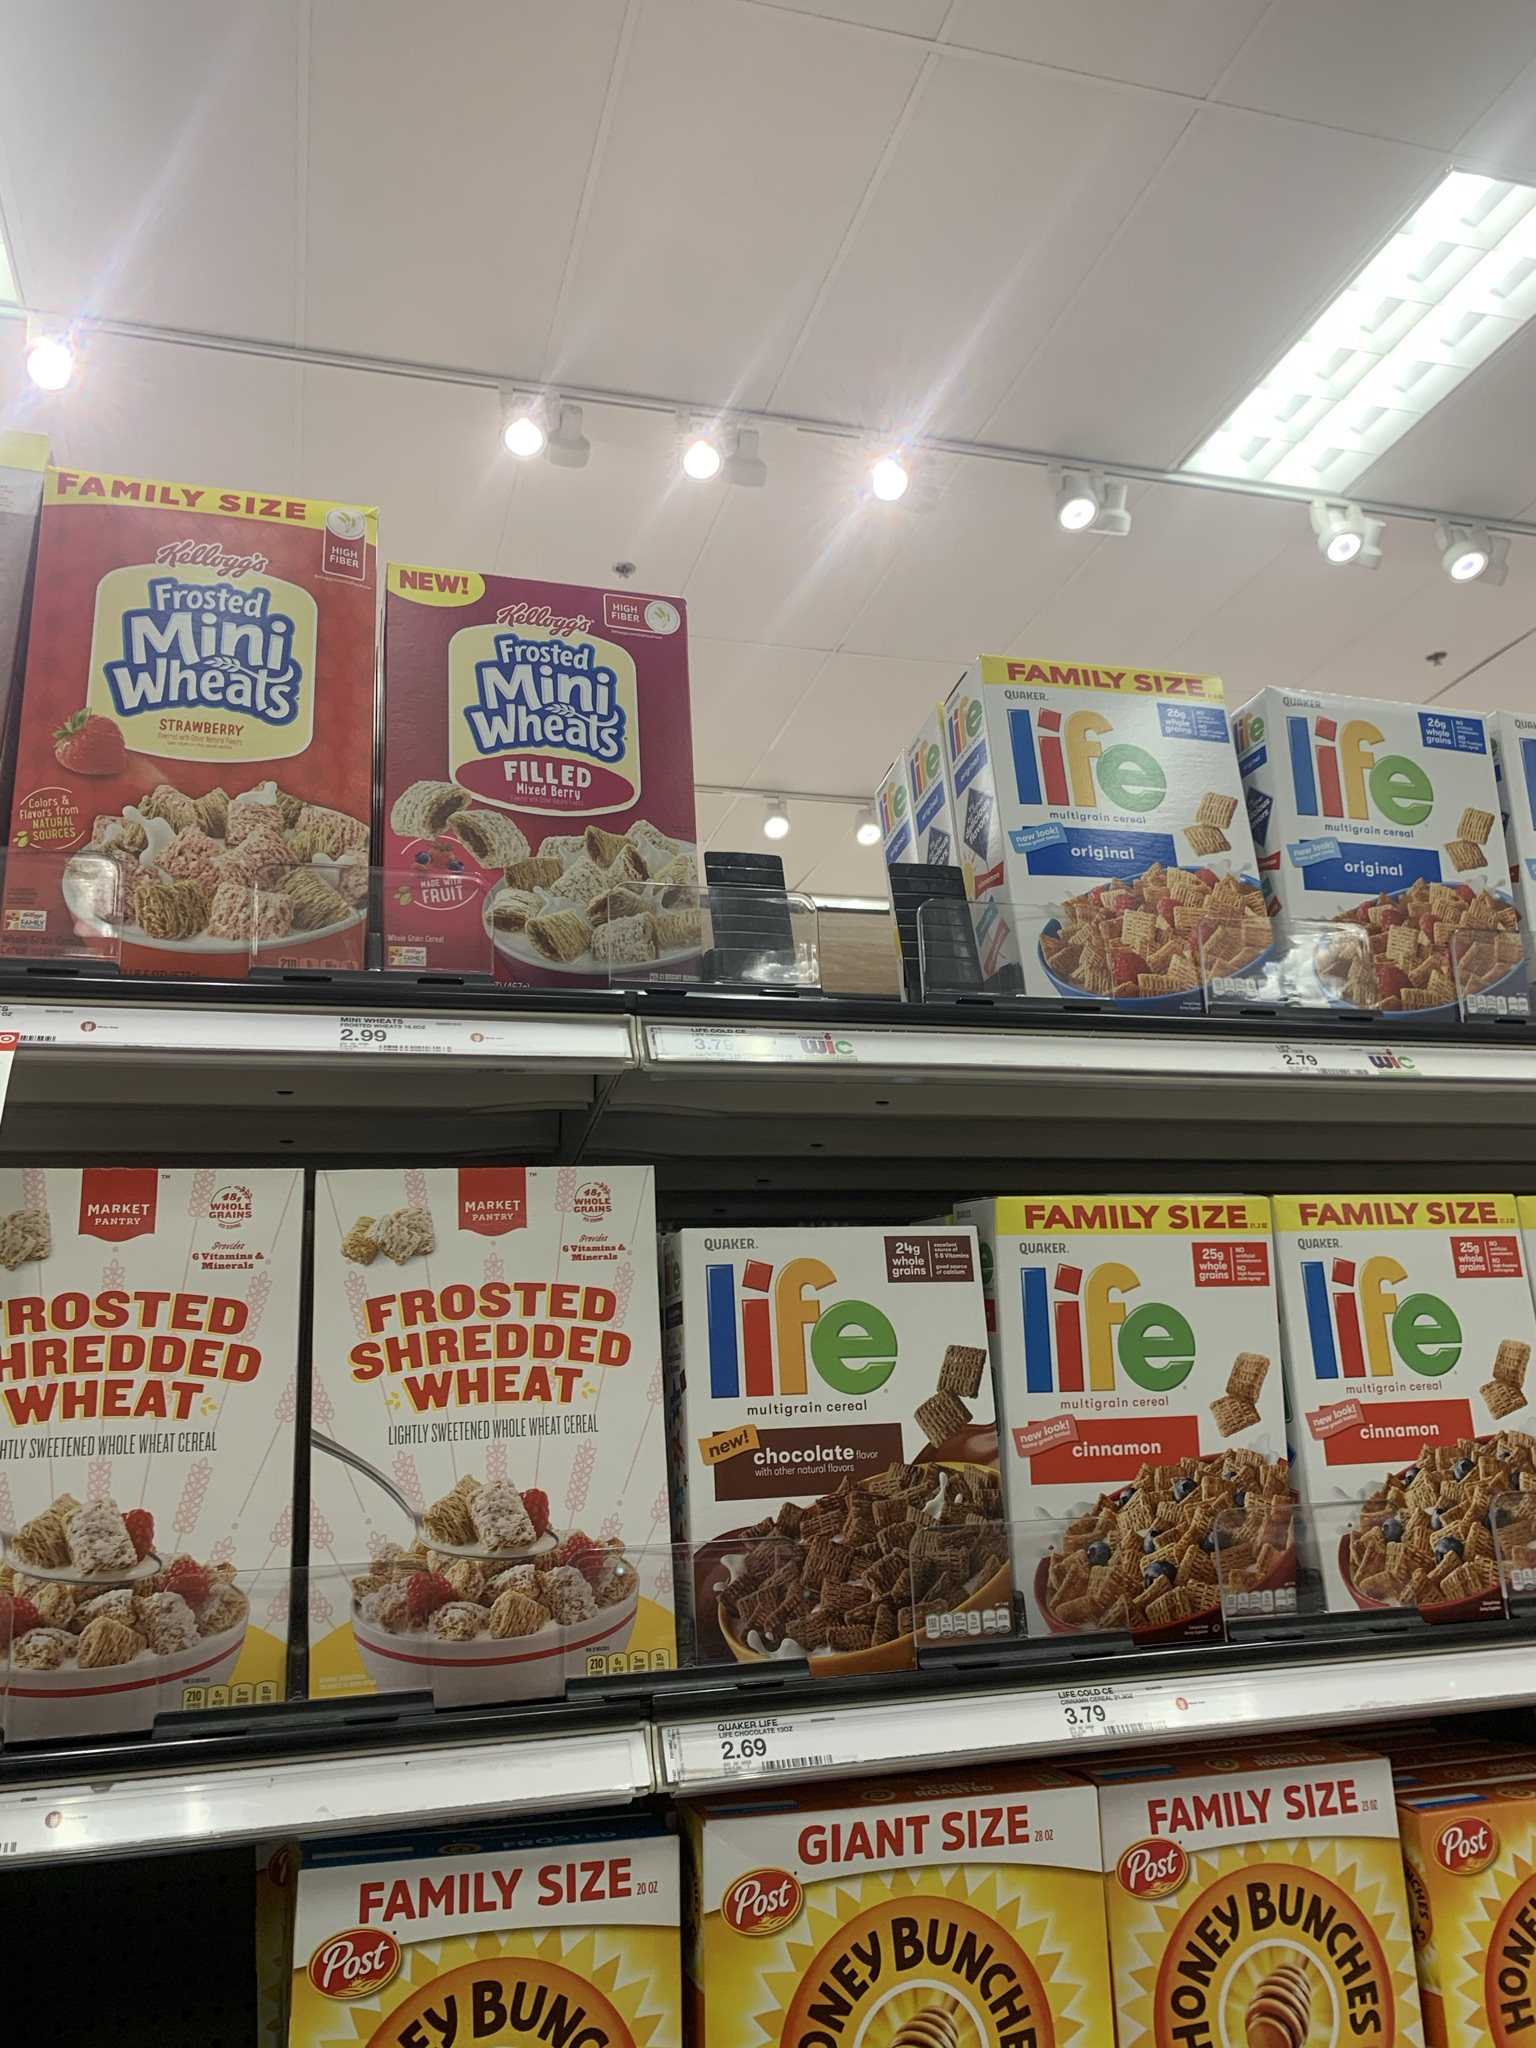Cereal frosted mini: (328, 1174, 657, 1716), (60, 481, 369, 969), (6, 1179, 289, 1687), (394, 581, 692, 959)
Cereal honey comb: (721, 1829, 1104, 2048), (1142, 1801, 1407, 2048), (328, 1875, 682, 2048)
Cereal life: (684, 1235, 999, 1655), (1004, 1197, 1284, 1624), (1299, 1209, 1536, 1621), (1002, 664, 1258, 966), (1283, 701, 1533, 1005)
